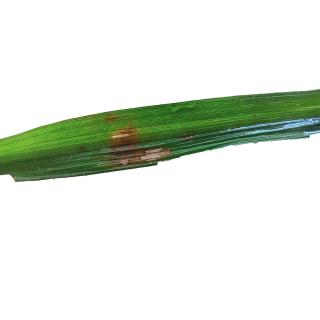Hawar-Daun: (120, 139, 172, 169), (108, 126, 141, 161), (104, 110, 117, 130), (75, 143, 92, 155)
